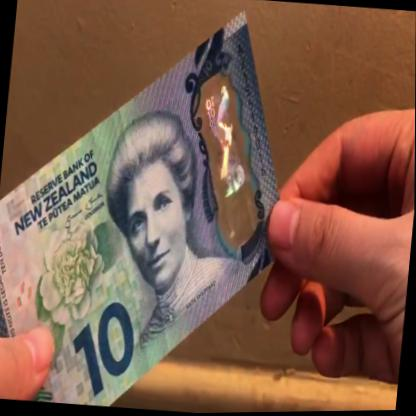10B: (194, 79, 257, 204)
